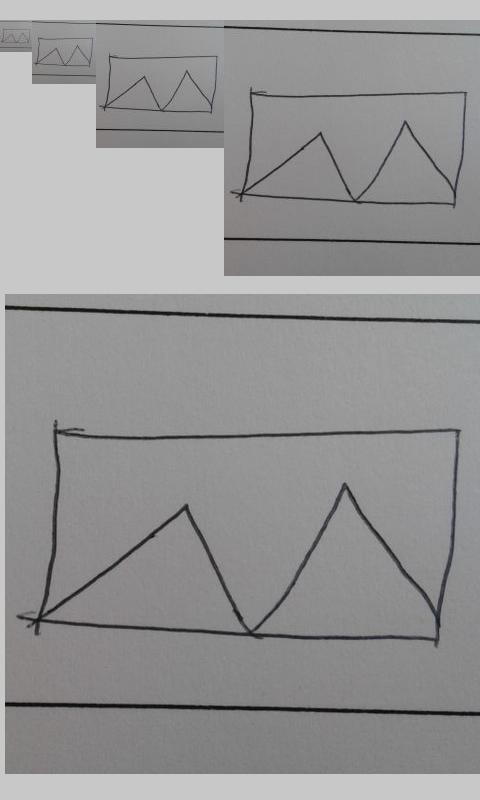image_view: (33, 425, 464, 653), (238, 88, 467, 208), (103, 53, 220, 116), (35, 36, 94, 67), (1, 28, 31, 44)
